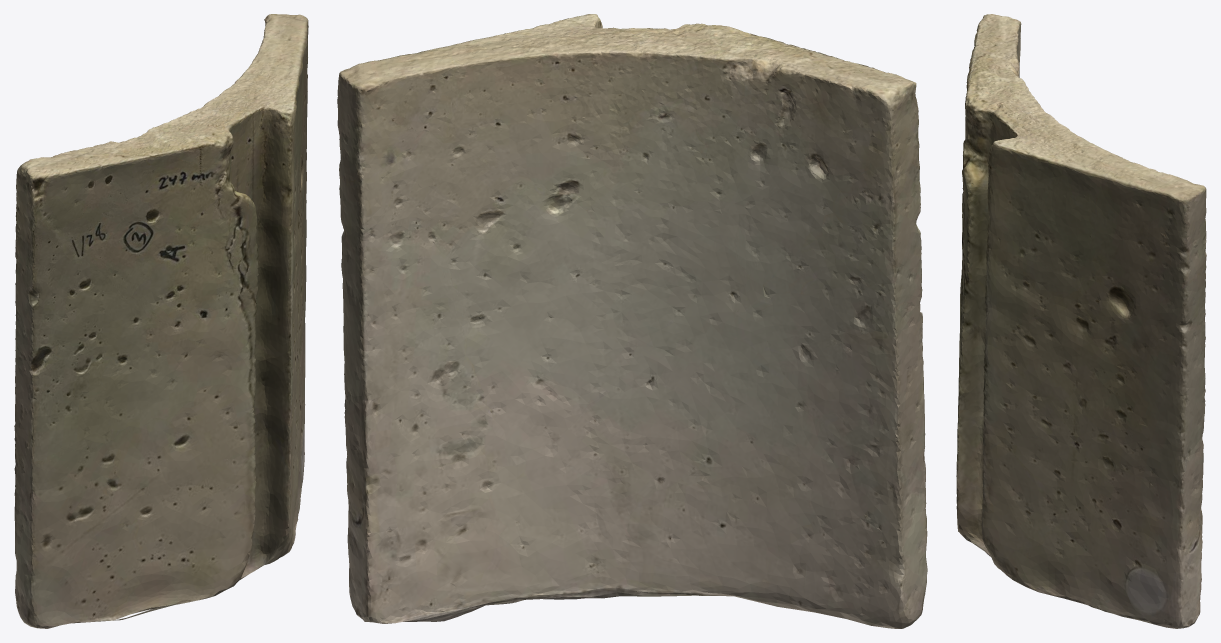
The model's file is Pixel 3.glb.
The picture shows the model from 3 angles, left to right: view 1: azimuth 30°, elevation 25°; view 2: azimuth 150°, elevation 25°; view 3: azimuth 270°, elevation 25°; orthographic projection. The views are drawn at different scales.
Bounding box in the file's own units: 0.2245 × 0.2615 × 0.1308.
Materials: 1 (1 with a texture image).
